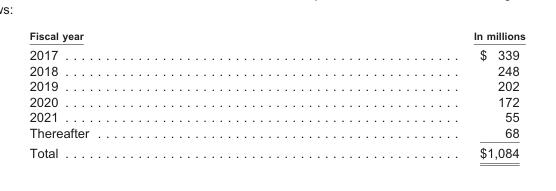table: (28, 28, 524, 160)
table column: (28, 28, 280, 160), (280, 28, 524, 160)
table column header: (28, 28, 524, 44)
table row: (28, 44, 524, 62), (28, 124, 524, 142), (28, 142, 524, 160), (28, 28, 524, 44), (28, 77, 524, 93), (28, 108, 524, 124), (28, 62, 524, 77), (28, 93, 524, 108)
